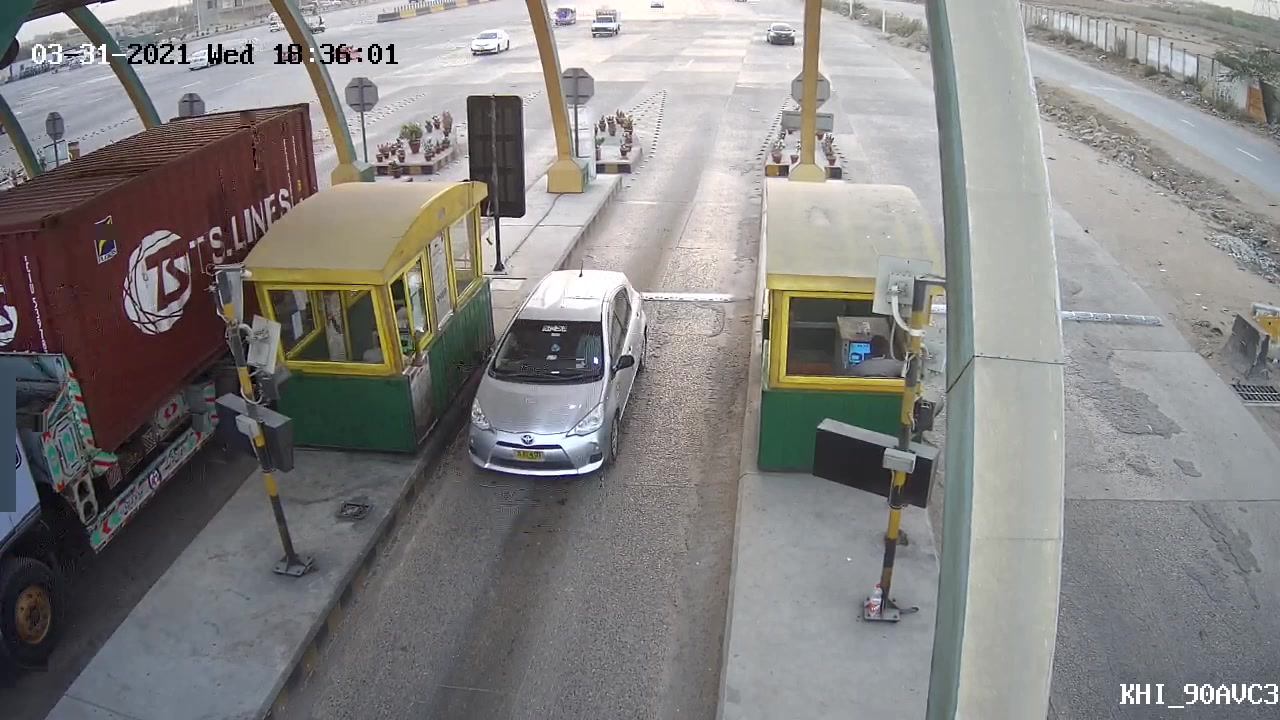F1: (461, 257, 649, 476)
